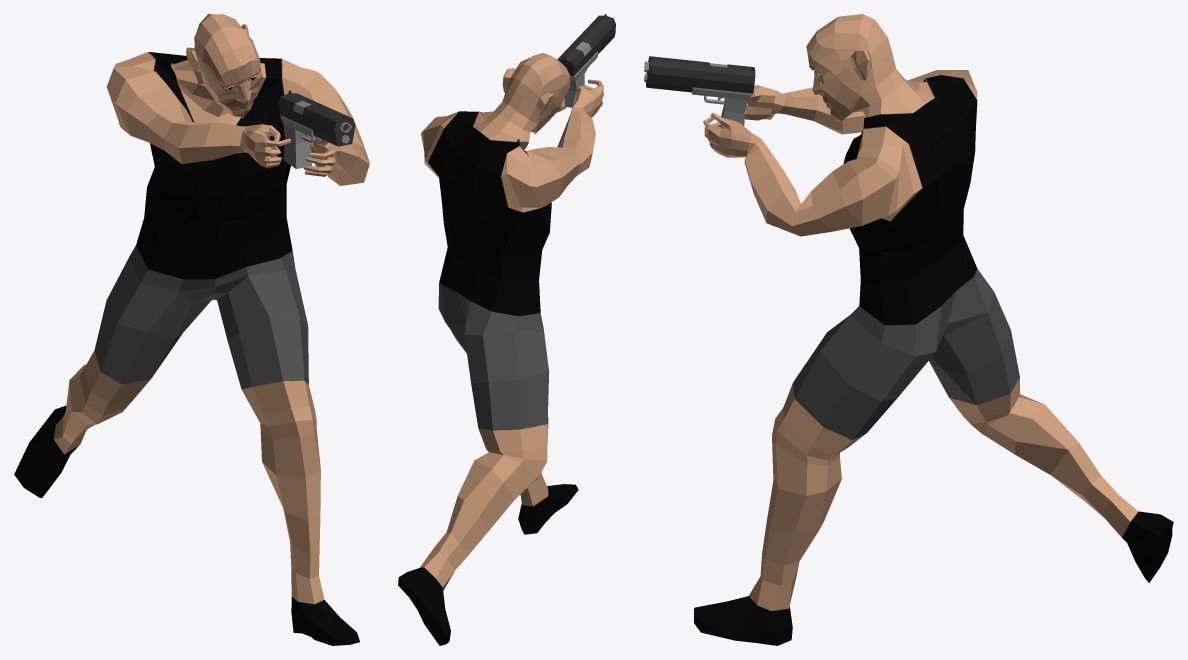
Rendered from PlayerWalk(6).obj.
The picture shows the model from 3 angles, left to right: view 1: azimuth 30°, elevation 25°; view 2: azimuth 150°, elevation 25°; view 3: azimuth 270°, elevation 25°; orthographic projection. The views are drawn at different scales.
Parts seen in each view (by area): view 1: Plane002, Box003; view 2: Plane002, Box003; view 3: Plane002, Box003.
Part boxes in pixels (x1,y1,x2,y2): Plane002: (14, 14, 369, 645); Box003: (278, 90, 355, 168); Plane002: (398, 53, 603, 645); Box003: (557, 14, 615, 107); Plane002: (694, 14, 1173, 645); Box003: (644, 56, 755, 127).
Size of the model in its own units: 593 by 1693 by 1352.
